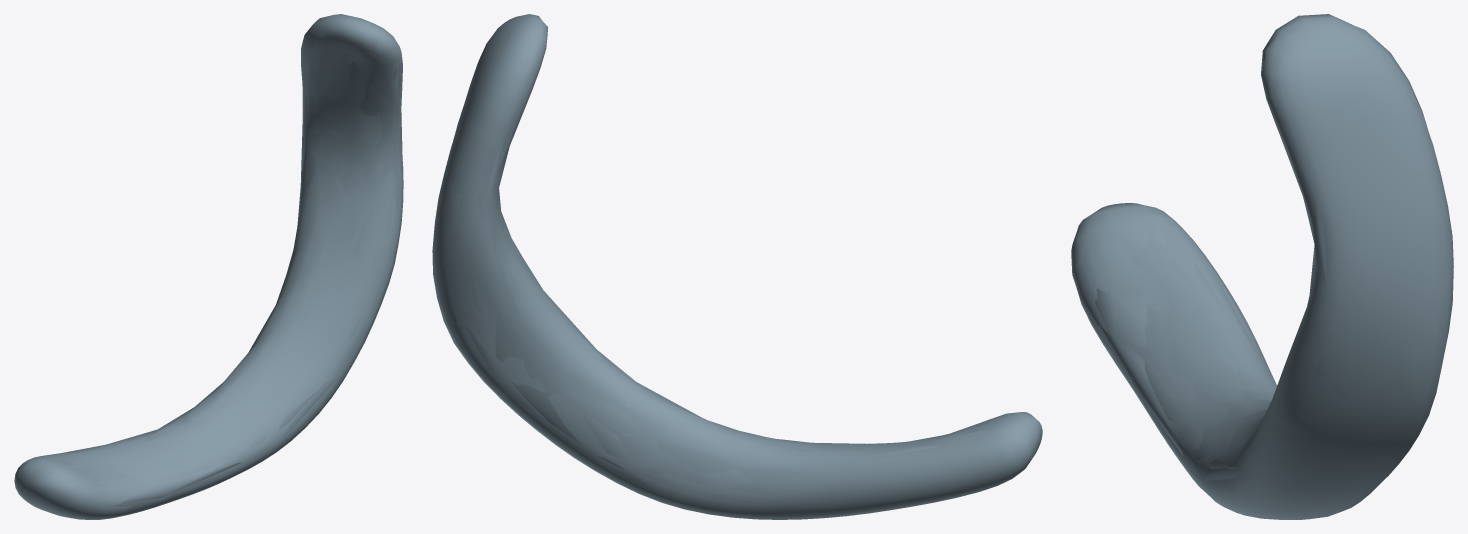
3 renders of one model, left to right at view 1: azimuth 30°, elevation 25°; view 2: azimuth 150°, elevation 25°; view 3: azimuth 270°, elevation 25°, orthographic. The views are drawn at different scales.
Parts seen in each view (by area): view 1: CC L03, CC L03 low, CC L03 high; view 2: CC L03 high, CC L03, CC L03 low; view 3: CC L03 high, CC L03, CC L03 low.
Boxes of the visible parts, x1,y1,x2,y2 form: CC L03: (14, 14, 402, 519); CC L03 low: (63, 61, 401, 503); CC L03 high: (14, 14, 403, 519); CC L03 high: (432, 14, 1042, 519); CC L03: (432, 14, 1040, 519); CC L03 low: (485, 147, 970, 503); CC L03 high: (1072, 15, 1452, 519); CC L03: (1071, 14, 1453, 518); CC L03 low: (1095, 195, 1319, 469).
Size of the model in its own units: 6.94 by 6.01 by 3.56.
